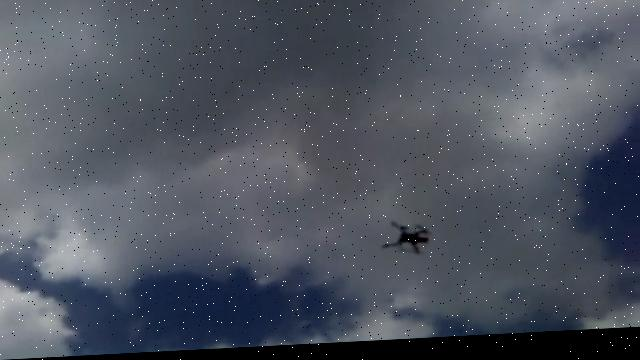drone: (381, 219, 432, 264)
